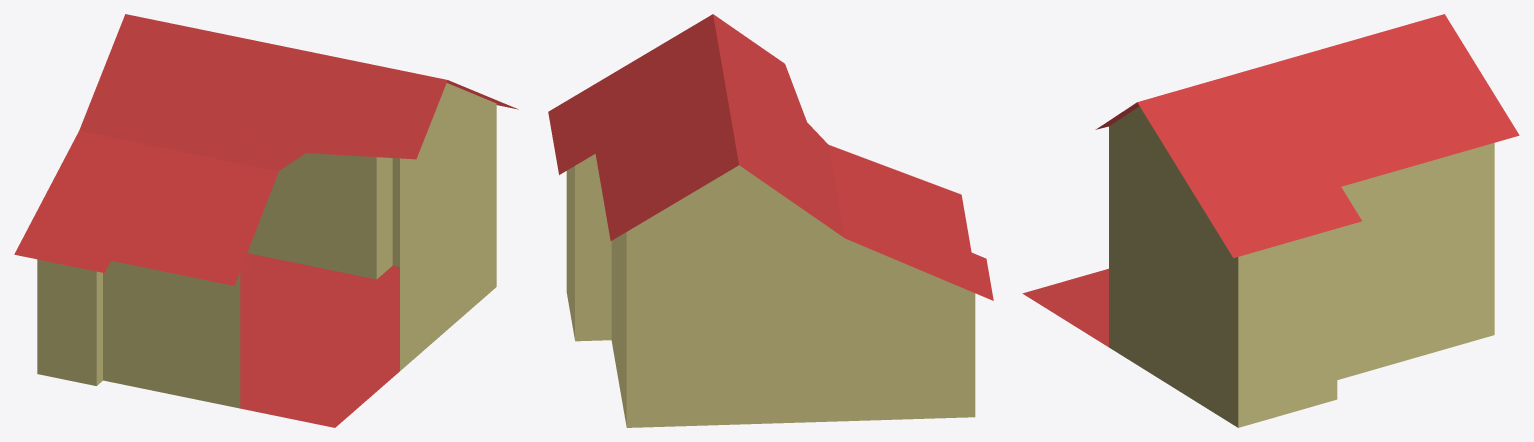
3 views of the same model, side by side, from view 1: azimuth 30°, elevation 25°; view 2: azimuth 150°, elevation 25°; view 3: azimuth 270°, elevation 25° (orthographic). The views are drawn at different scales.
Size of the model in its own units: 23.75 by 20.75 by 12.72.
